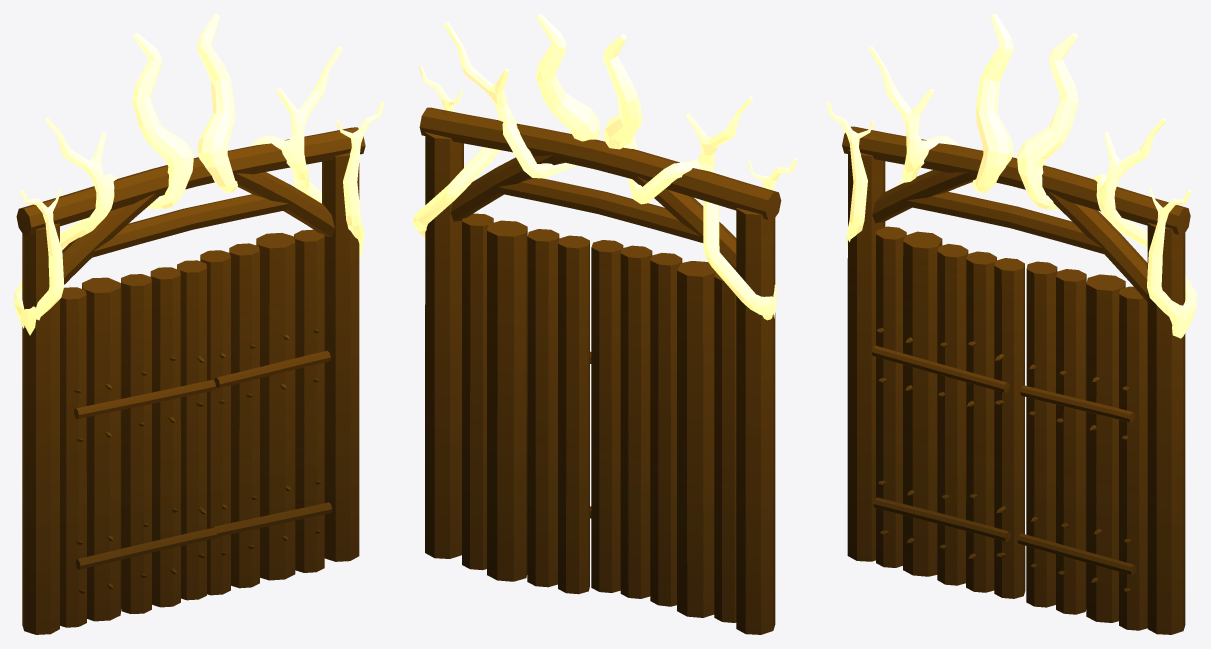
Rendered from PuertaSeparada.fbx.
3 renders of one model, left to right at view 1: azimuth 30°, elevation 25°; view 2: azimuth 150°, elevation 25°; view 3: azimuth 330°, elevation 25°, orthographic. The views are drawn at different scales.
Parts seen in each view (by area): view 1: PallisadeWall_01_Cylinder.237, PallisadeWall_01_Cylinder.002, PallisadeWall_01_Cylinder.001; view 2: PallisadeWall_01_Cylinder.237, PallisadeWall_01_Cylinder.002, PallisadeWall_01_Cylinder.001; view 3: PallisadeWall_01_Cylinder.237, PallisadeWall_01_Cylinder.002, PallisadeWall_01_Cylinder.001.
Part boxes in pixels (x1,y1,x2,y2): PallisadeWall_01_Cylinder.237: [14, 14, 384, 634]; PallisadeWall_01_Cylinder.002: [60, 260, 217, 627]; PallisadeWall_01_Cylinder.001: [200, 229, 332, 595]; PallisadeWall_01_Cylinder.237: [413, 14, 797, 634]; PallisadeWall_01_Cylinder.002: [591, 240, 736, 622]; PallisadeWall_01_Cylinder.001: [462, 213, 591, 594]; PallisadeWall_01_Cylinder.237: [826, 14, 1196, 634]; PallisadeWall_01_Cylinder.002: [872, 226, 1025, 598]; PallisadeWall_01_Cylinder.001: [1017, 261, 1147, 630].
Bounding box in the file's own units: 418 × 613 × 75.68.
1 material, 1 textured.
